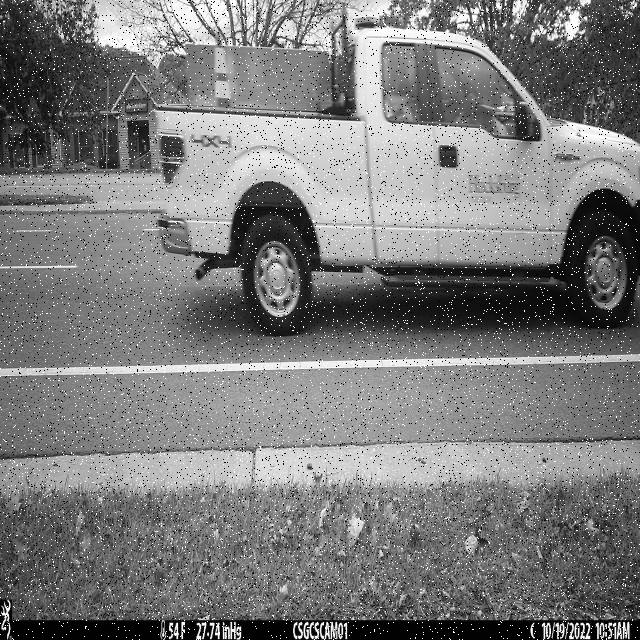Pickup: (156, 1, 640, 338)
